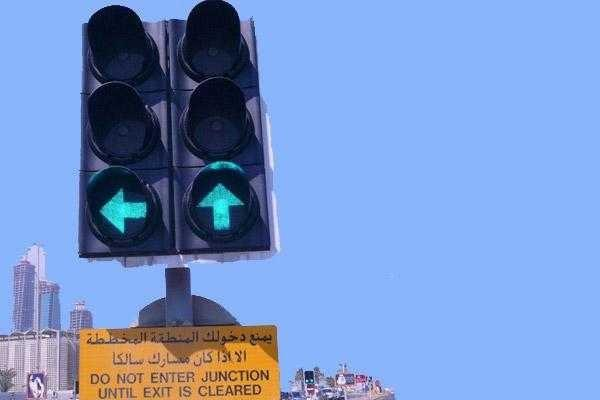green: (166, 1, 278, 261), (77, 4, 173, 258), (175, 162, 271, 245), (81, 167, 170, 246)
